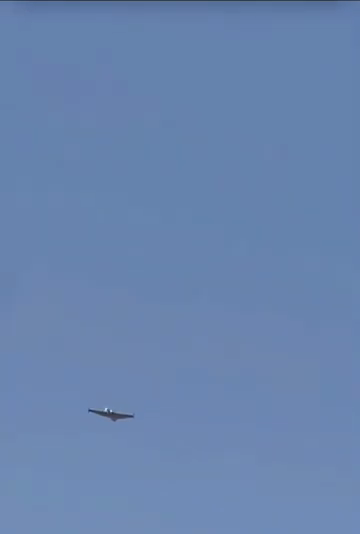shahed: (86, 405, 135, 423)
